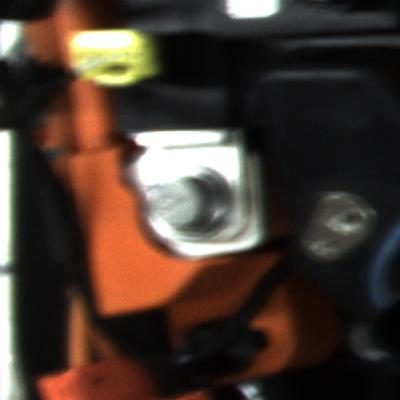nut_b: (144, 162, 234, 242)
